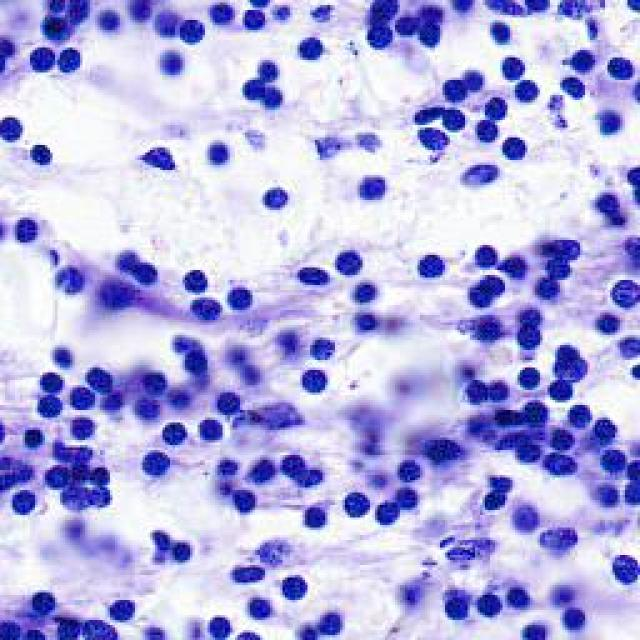cell: (386, 445, 436, 485), (138, 140, 182, 180), (538, 521, 588, 551), (607, 547, 640, 590), (251, 176, 288, 213), (44, 340, 86, 370), (56, 43, 90, 78), (0, 108, 26, 153), (24, 44, 63, 74), (28, 396, 72, 422), (352, 173, 392, 201), (418, 126, 453, 157), (204, 135, 233, 169), (331, 242, 365, 271), (142, 448, 176, 477), (298, 364, 333, 392), (180, 12, 207, 48), (106, 595, 142, 622), (285, 570, 312, 606), (312, 329, 343, 360), (503, 133, 532, 166), (33, 134, 57, 173), (145, 8, 182, 33), (301, 499, 328, 533), (194, 418, 231, 441), (233, 562, 270, 585), (177, 262, 212, 286), (203, 613, 234, 640), (254, 54, 286, 80), (171, 537, 199, 566), (354, 277, 384, 304), (32, 372, 68, 394), (152, 50, 188, 72), (372, 498, 399, 527), (231, 75, 260, 102), (294, 265, 328, 288), (211, 390, 243, 413), (416, 251, 444, 276), (144, 526, 175, 548), (446, 598, 472, 623), (478, 594, 502, 621), (483, 478, 529, 492), (469, 244, 504, 262), (163, 421, 190, 444), (265, 88, 292, 111), (105, 7, 124, 39), (341, 496, 365, 520), (235, 488, 257, 514), (232, 286, 253, 312), (301, 39, 326, 60), (207, 5, 236, 22), (241, 13, 273, 28)
